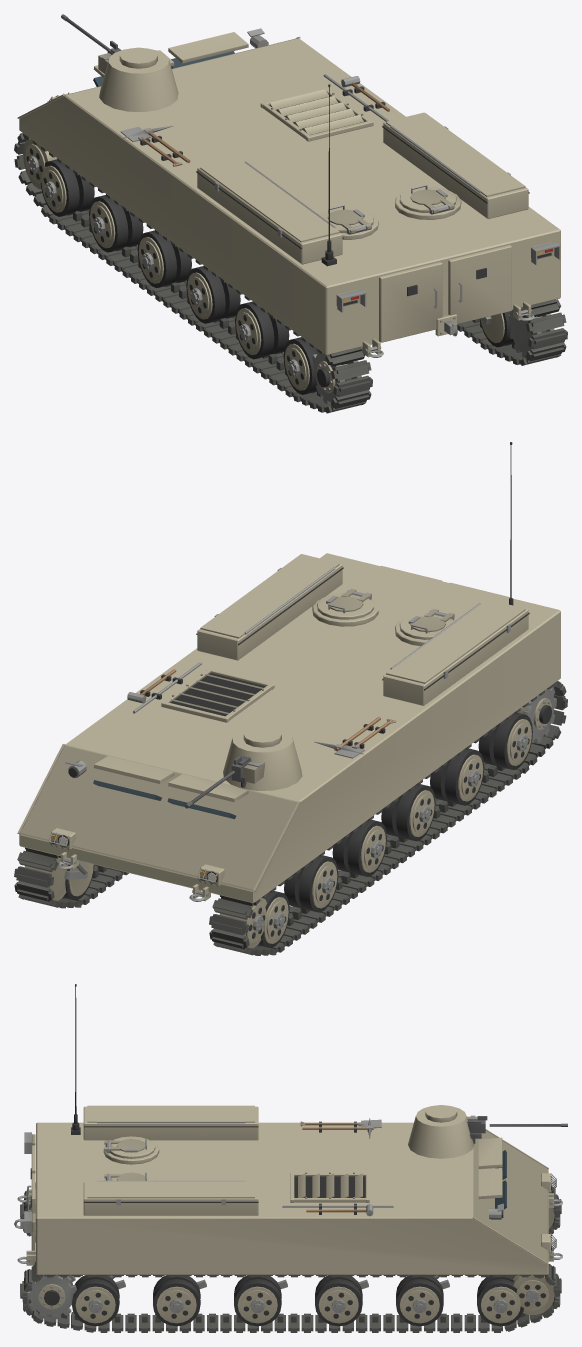
The model's file is rus_apc_mtlb.glb.
The picture shows the model from 3 angles, top to bottom: view 1: azimuth 30°, elevation 25°; view 2: azimuth 150°, elevation 25°; view 3: azimuth 270°, elevation 25°; orthographic projection. The views are drawn at different scales.
Visible parts, largest first — view 1: body, turret, barrel; view 2: body, turret, barrel; view 3: body, turret, barrel.
Part boxes in pixels (x1,y1,x2,y2): body: (14, 28, 567, 413); turret: (99, 47, 178, 111); barrel: (61, 14, 121, 73); body: (14, 442, 567, 955); turret: (223, 726, 302, 790); barrel: (185, 756, 264, 808); body: (14, 984, 562, 1332); turret: (408, 1105, 474, 1158); barrel: (467, 1115, 567, 1143).
Bounding box in the file's own units: 2.89 × 3.67 × 6.97.
